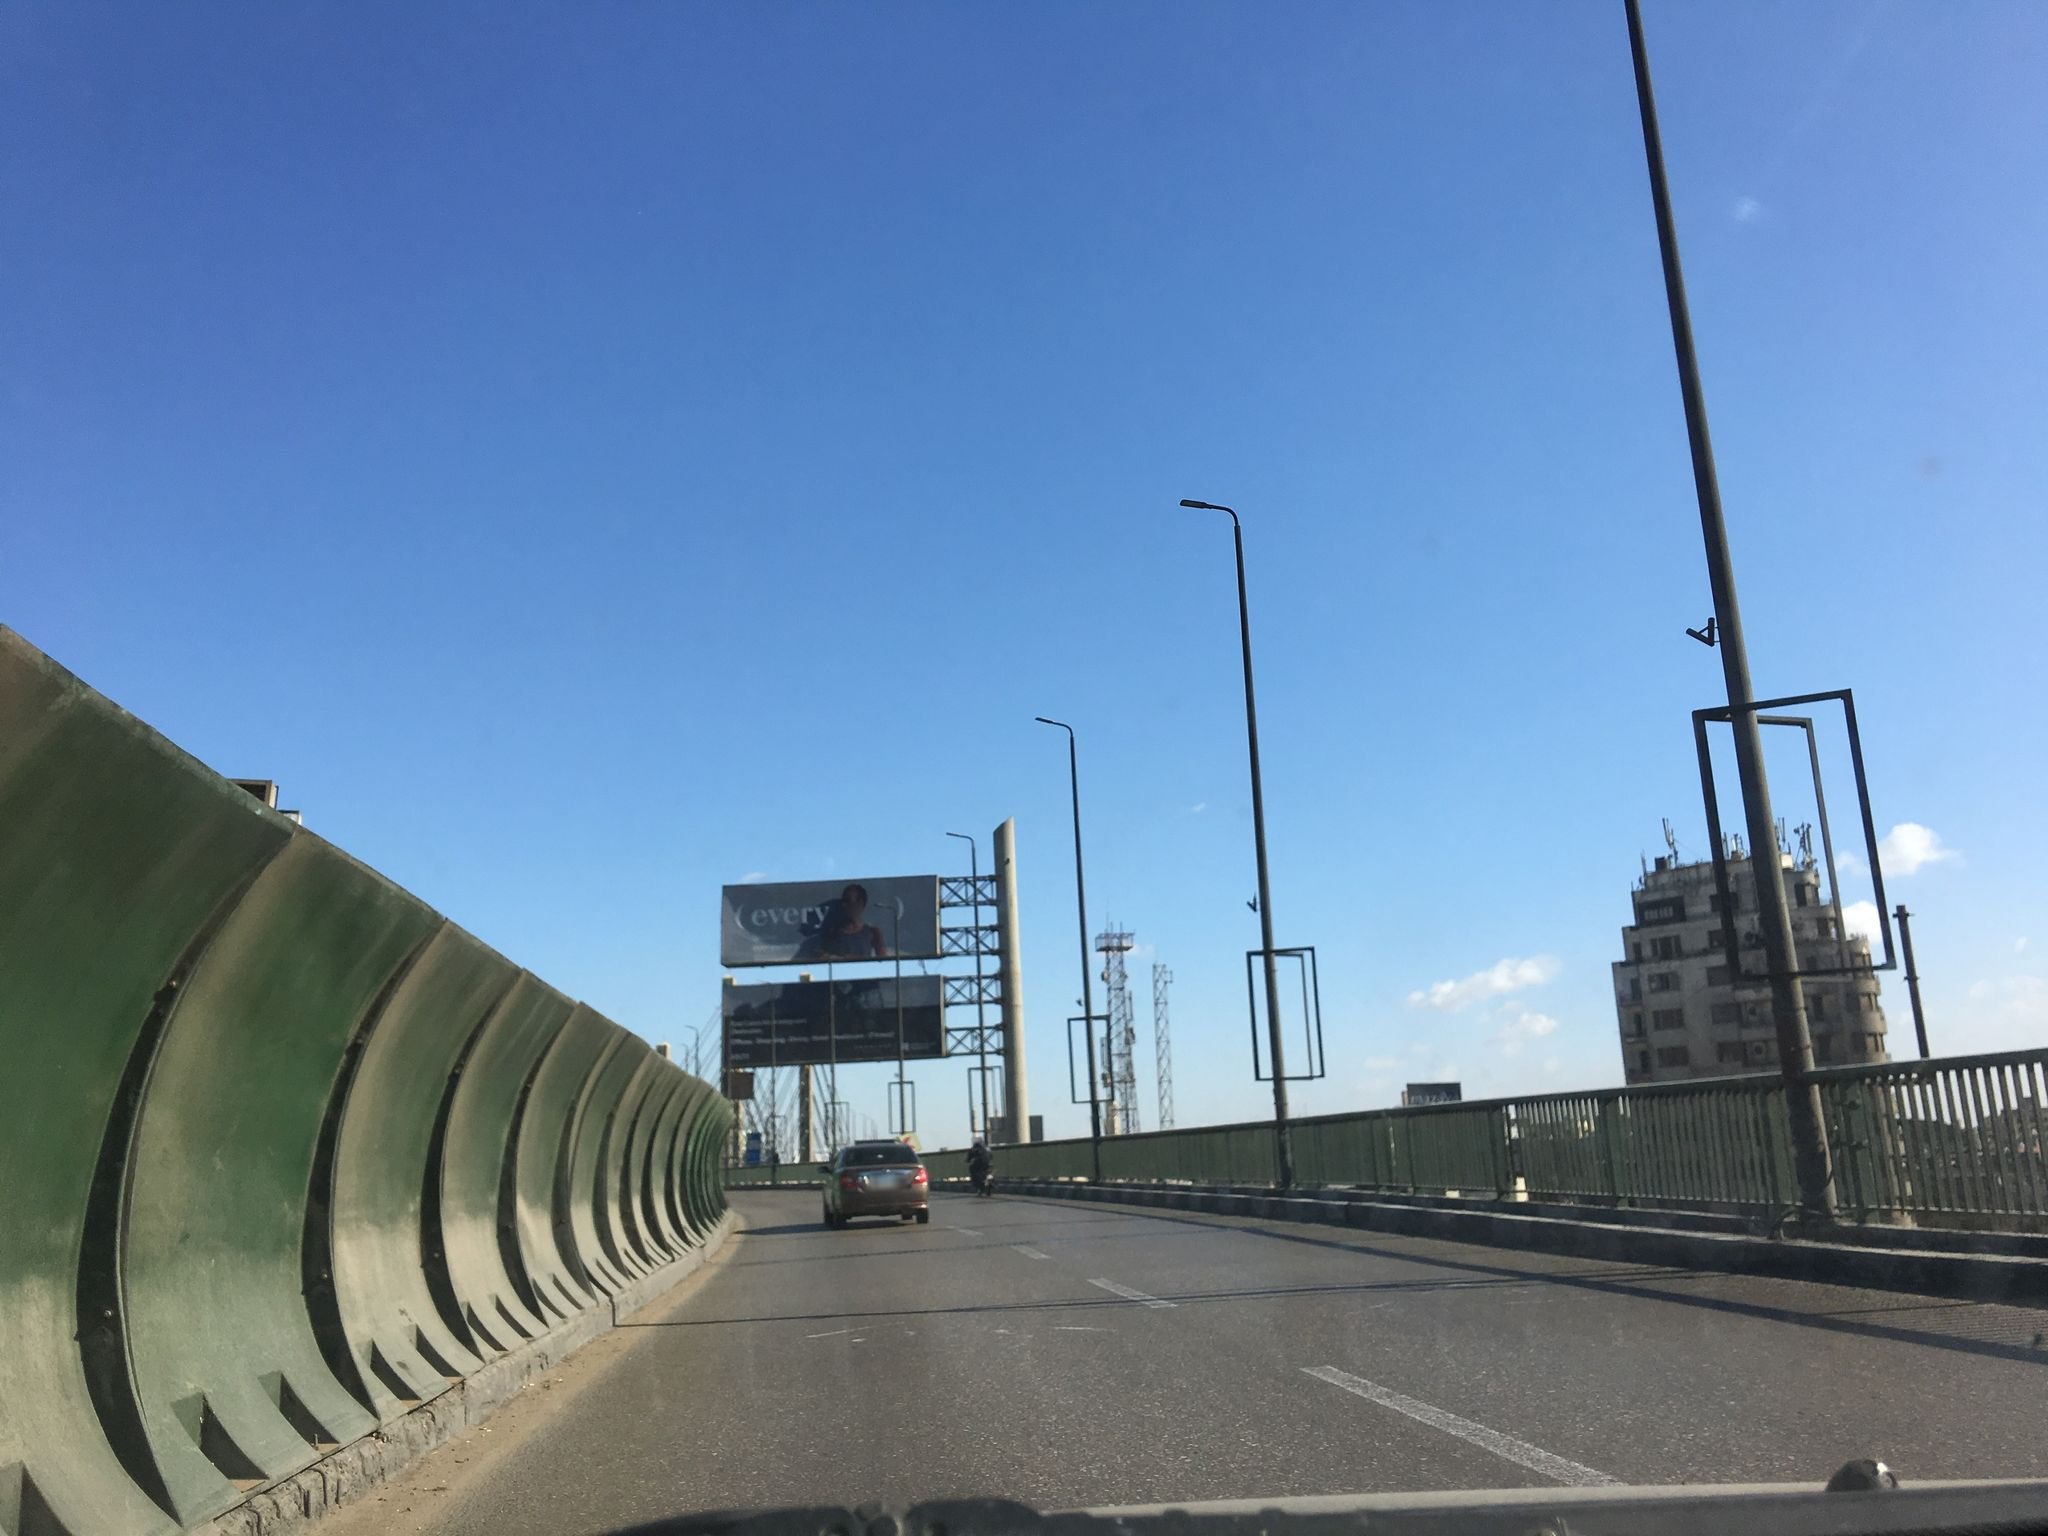car: (818, 1142, 932, 1226)
motorcycle: (964, 1157, 998, 1200)
